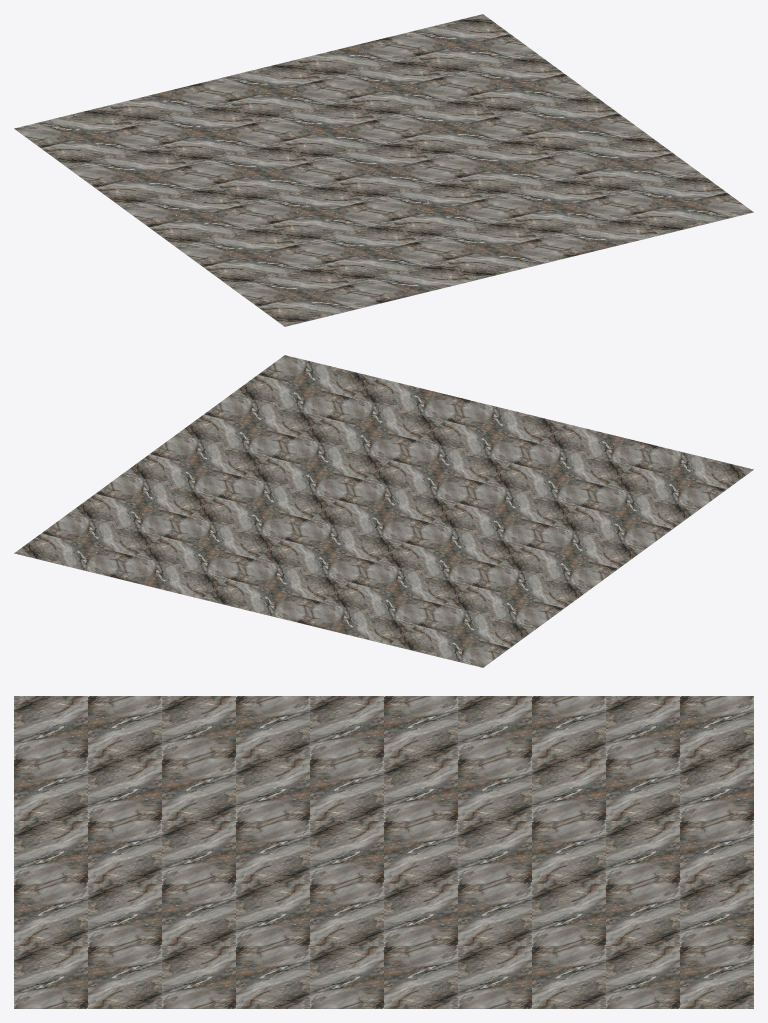
The model's file is enzo-80x160.glb.
The picture shows the model from 3 angles, top to bottom: view 1: azimuth 30°, elevation 25°; view 2: azimuth 150°, elevation 25°; view 3: azimuth 270°, elevation 25°; orthographic projection. The views are drawn at different scales.
Visible parts, largest first — view 1: Enzo; view 2: Enzo; view 3: Enzo.
Boxes of the visible parts, box(x1,y1,x2,y2) form: Enzo: box(14, 14, 753, 326); Enzo: box(14, 355, 753, 667); Enzo: box(14, 696, 753, 1008).
Bounding box in the file's own units: 8 × 0.003 × 8.
2 materials, 1 textured.
